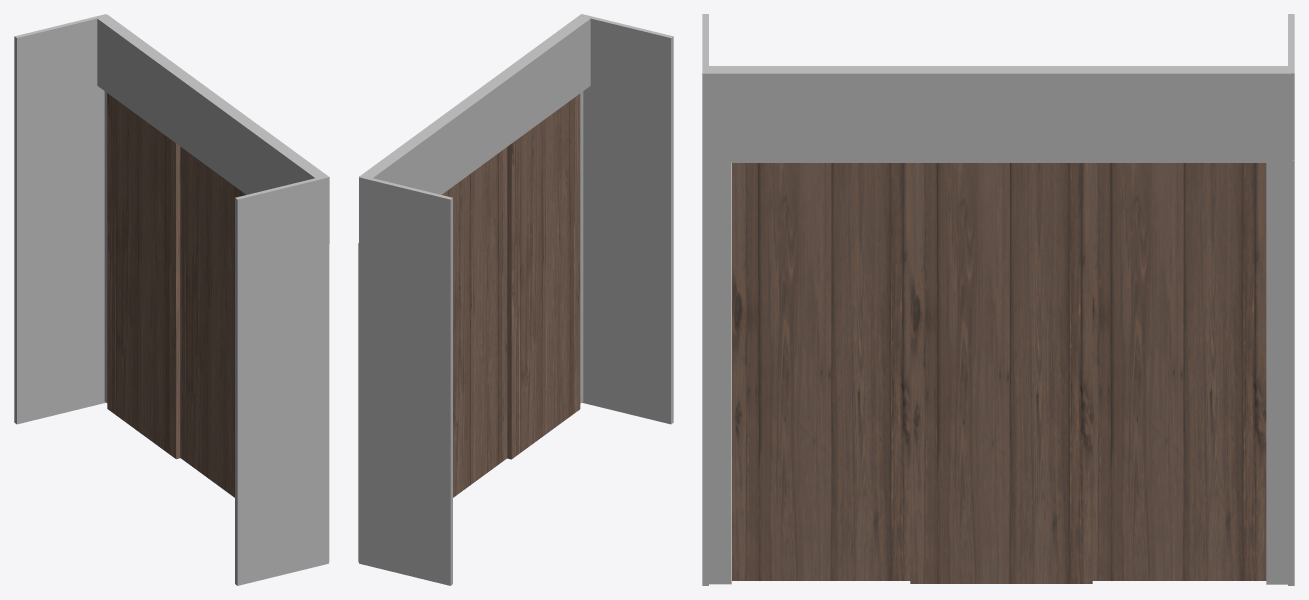
The model's file is Wardrobe.fbx.
3 renders of one model, left to right at view 1: azimuth 30°, elevation 25°; view 2: azimuth 150°, elevation 25°; view 3: azimuth 270°, elevation 25°, orthographic. The views are drawn at different scales.
Parts seen in each view (by area): view 1: pCube7; view 2: pCube7; view 3: pCube7.
Boxes of the visible parts, x1,y1,x2,y2 form: pCube7: (14, 14, 329, 585); pCube7: (358, 14, 673, 585); pCube7: (702, 14, 1294, 585).
Bounding box in the file's own units: 7.21 × 28.87 × 30.22.
